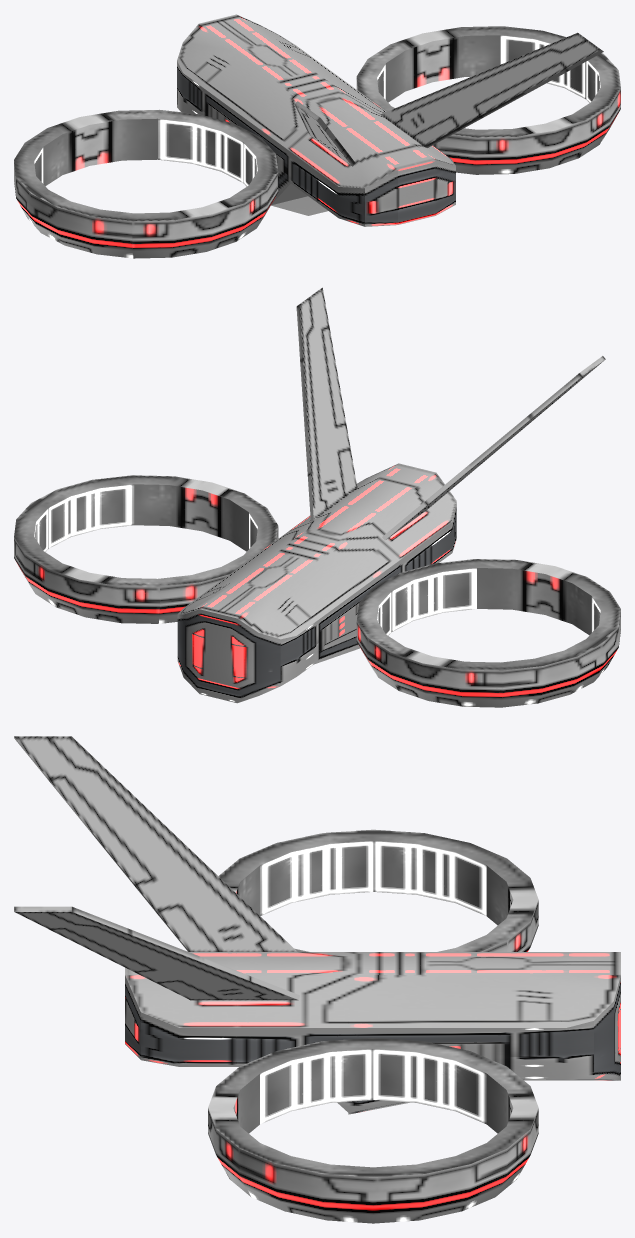
Rendered from EnemyDrone1.fbx.
The picture shows the model from 3 angles, top to bottom: view 1: azimuth 30°, elevation 25°; view 2: azimuth 150°, elevation 25°; view 3: azimuth 270°, elevation 25°; orthographic projection. The views are drawn at different scales.
Parts seen in each view (by area): view 1: EnemyDroneBody, DronePropCasing, DronePropCasing1, DroneWing1, DroneWing; view 2: EnemyDroneBody, DronePropCasing, DronePropCasing1, DroneWing1, DroneWing; view 3: EnemyDroneBody, DronePropCasing1, DronePropCasing, DroneWing, DroneWing1.
Part boxes in pixels (x1,y1,x2,y2): EnemyDroneBody: (177,14,455,226); DronePropCasing: (14,109,278,258); DronePropCasing1: (356,26,620,174); DroneWing1: (380,32,603,147); DroneWing: (294,101,355,166); EnemyDroneBody: (177,463,456,703); DronePropCasing: (356,559,620,707); DronePropCasing1: (14,475,278,623); DroneWing1: (296,287,357,521); DroneWing: (382,356,605,540); EnemyDroneBody: (125,952,620,1114); DronePropCasing1: (208,1037,538,1223); DronePropCasing: (218,829,538,951); DroneWing: (14,736,297,951); DroneWing1: (14,906,299,1000).
Size of the model in its own units: 0.5803 by 0.2189 by 0.428.
